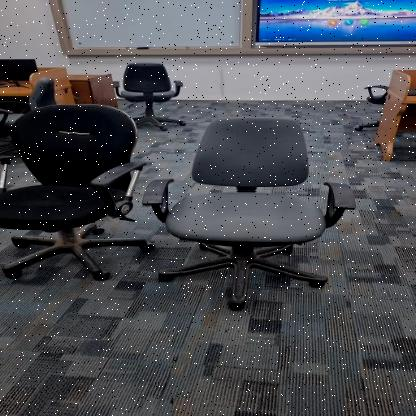chair: (138, 112, 360, 307), (0, 97, 145, 290), (108, 58, 188, 134)
